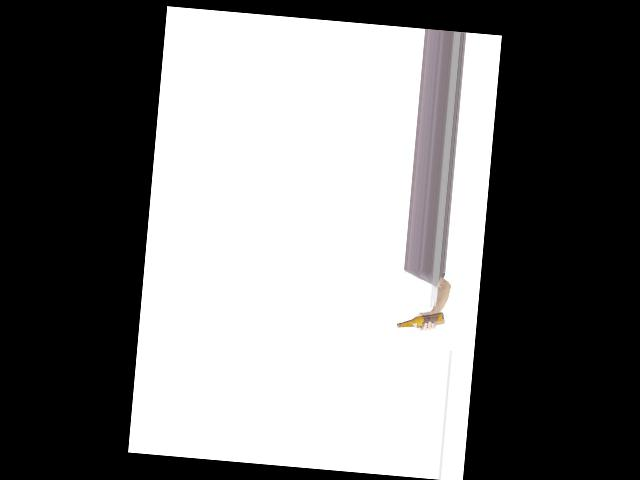beer: (397, 307, 445, 331)
